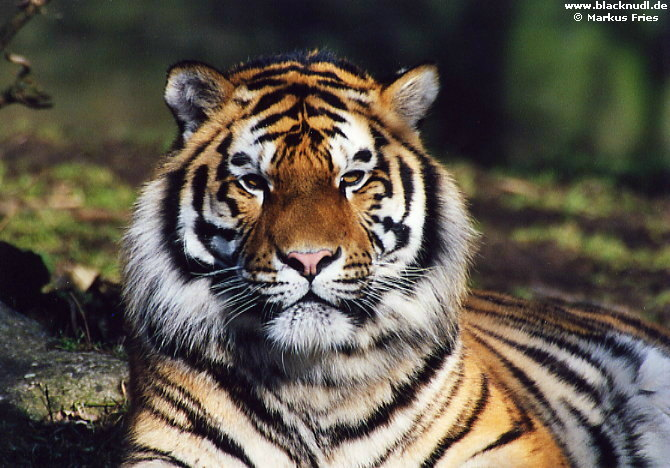Tigre: (100, 42, 519, 424)
